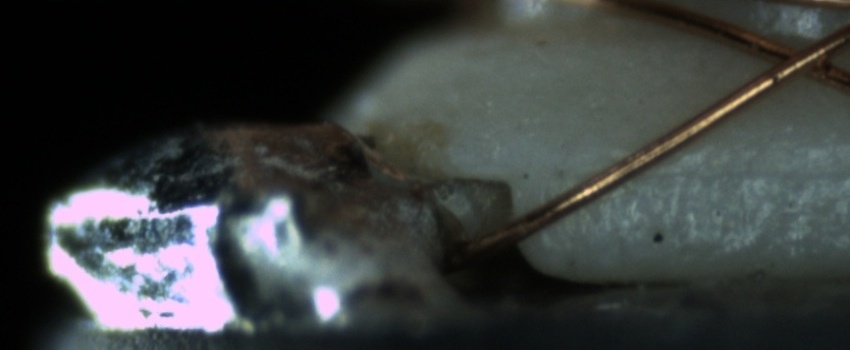CL: (751, 28, 844, 89)
DL: (617, 134, 846, 205)
